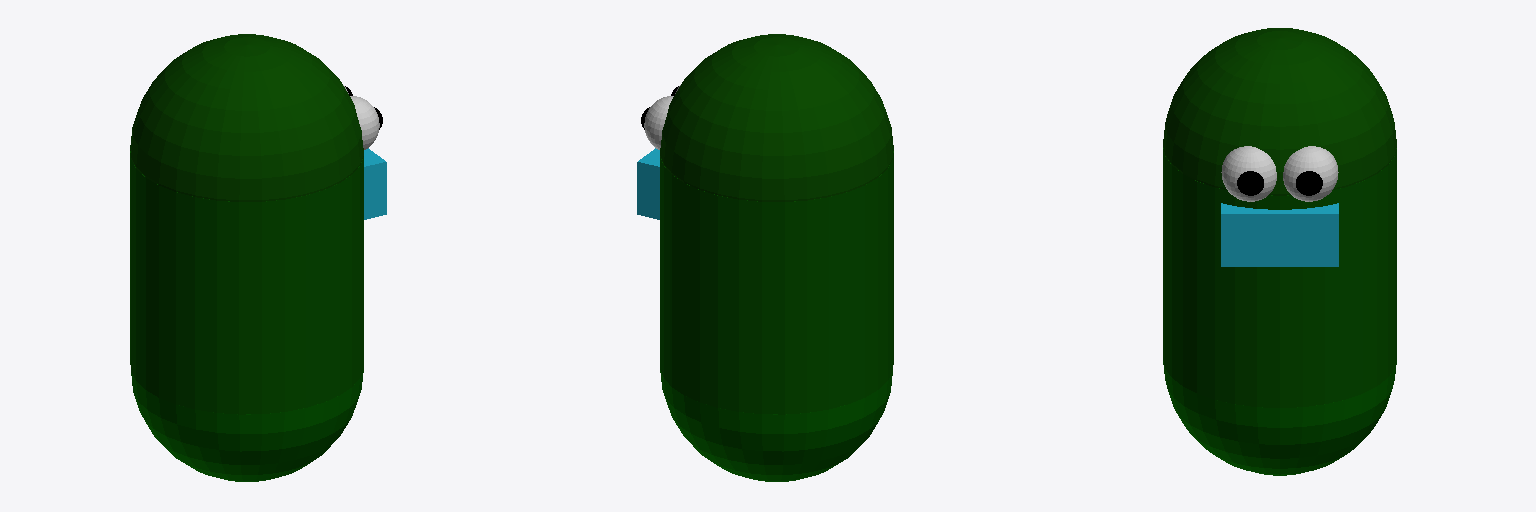
The model's file is mask_bean.obj.
3 views of the same model, side by side, from view 1: azimuth 30°, elevation 25°; view 2: azimuth 150°, elevation 25°; view 3: azimuth 270°, elevation 25° (orthographic).
Parts seen in each view (by area): view 1: Cylinder, Sphere, Sphere.001, Cube.002_Cube.003, Sphere.002; view 2: Cylinder, Sphere, Sphere.001, Cube.002_Cube.003, Sphere.003; view 3: Cylinder, Sphere, Sphere.001, Cube.002_Cube.003, Sphere.002, Sphere.003, Sphere.004, Sphere.005.
Part boxes in pixels (x1,y1,x2,y2): Cylinder: (130,151,363,414); Sphere: (130,34,363,201); Sphere.001: (131,370,363,481); Cube.002_Cube.003: (364,148,386,219); Sphere.002: (350,96,379,149); Cylinder: (660,151,893,414); Sphere: (660,34,893,201); Sphere.001: (660,370,892,481); Cube.002_Cube.003: (637,148,659,219); Sphere.003: (644,96,673,149); Cylinder: (1163,148,1396,407); Sphere: (1163,28,1396,195); Sphere.001: (1163,361,1396,475); Cube.002_Cube.003: (1221,203,1338,266); Sphere.002: (1221,146,1276,201); Sphere.003: (1283,146,1338,201); Sphere.004: (1237,171,1263,195); Sphere.005: (1296,171,1322,195).
Size of the model in its own units: 4.35 by 8.04 by 4.